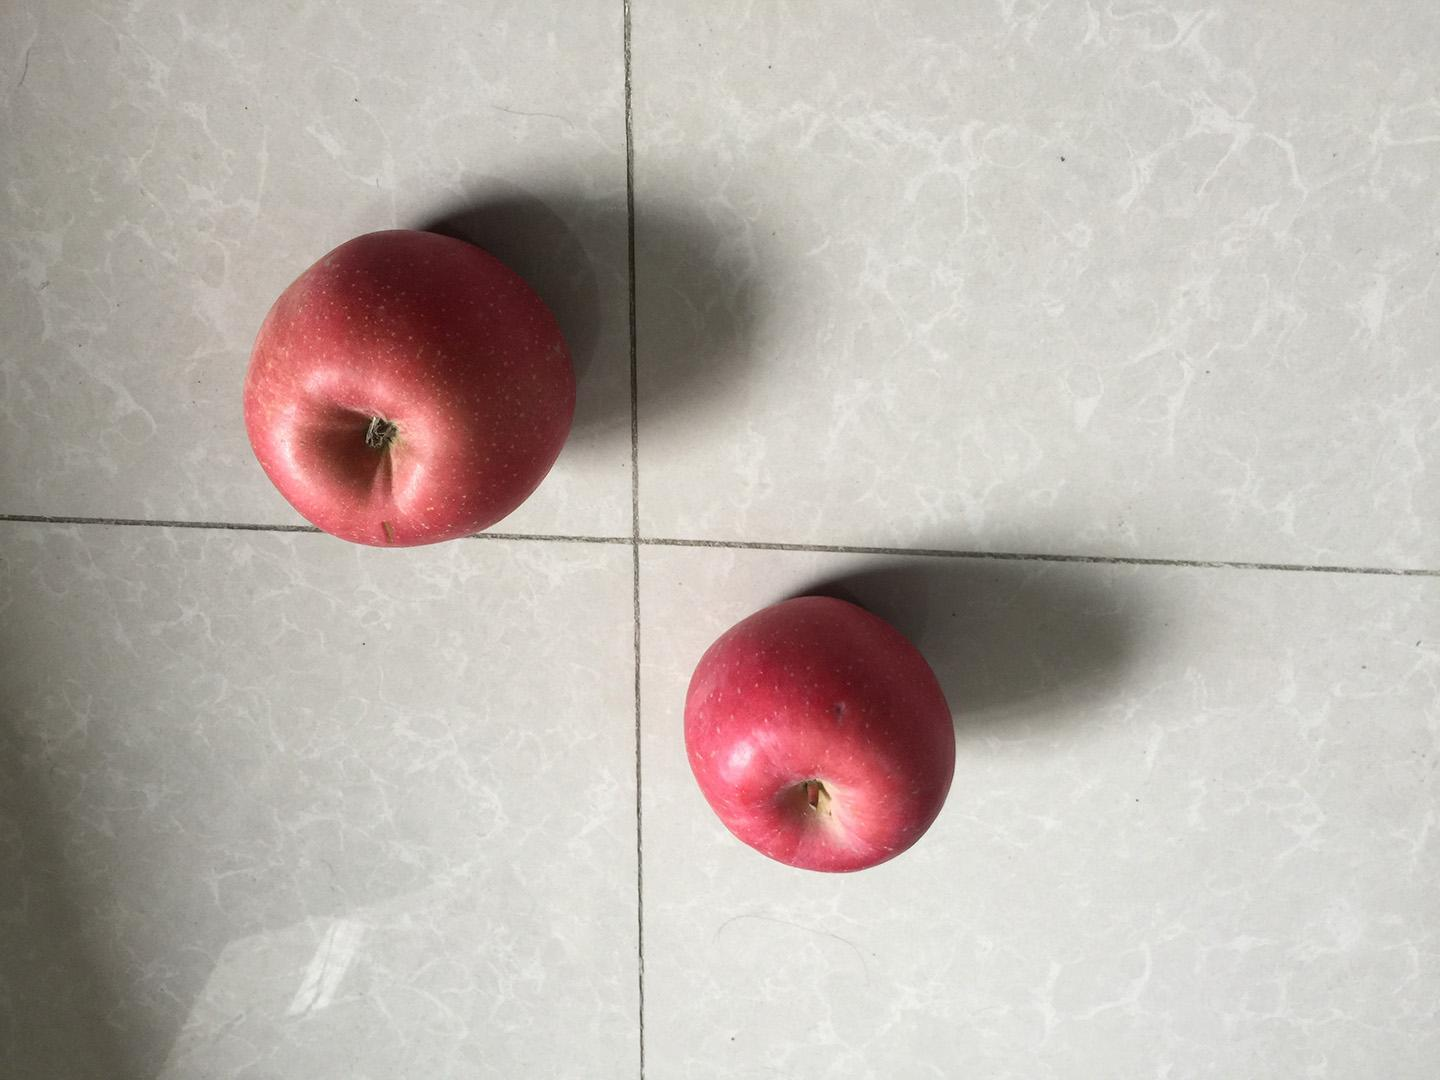apple: (232, 218, 582, 556), (674, 588, 971, 880)
